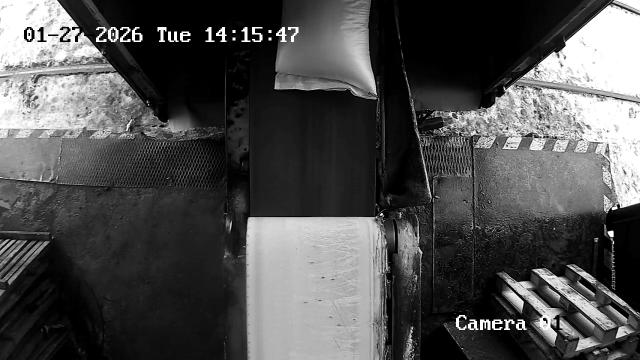bag: (274, 0, 377, 100)
